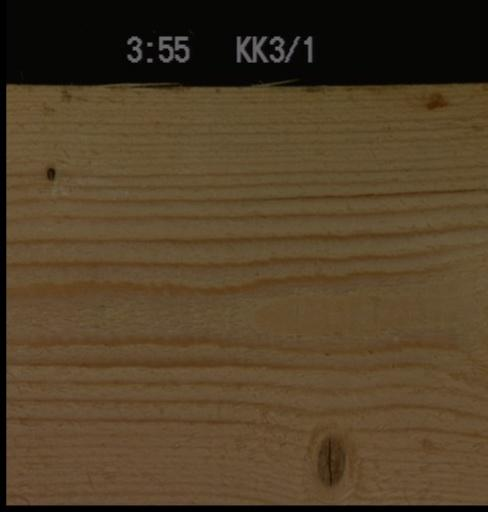dry_knot: (44, 165, 55, 179)
sound_knot: (313, 433, 347, 485)
